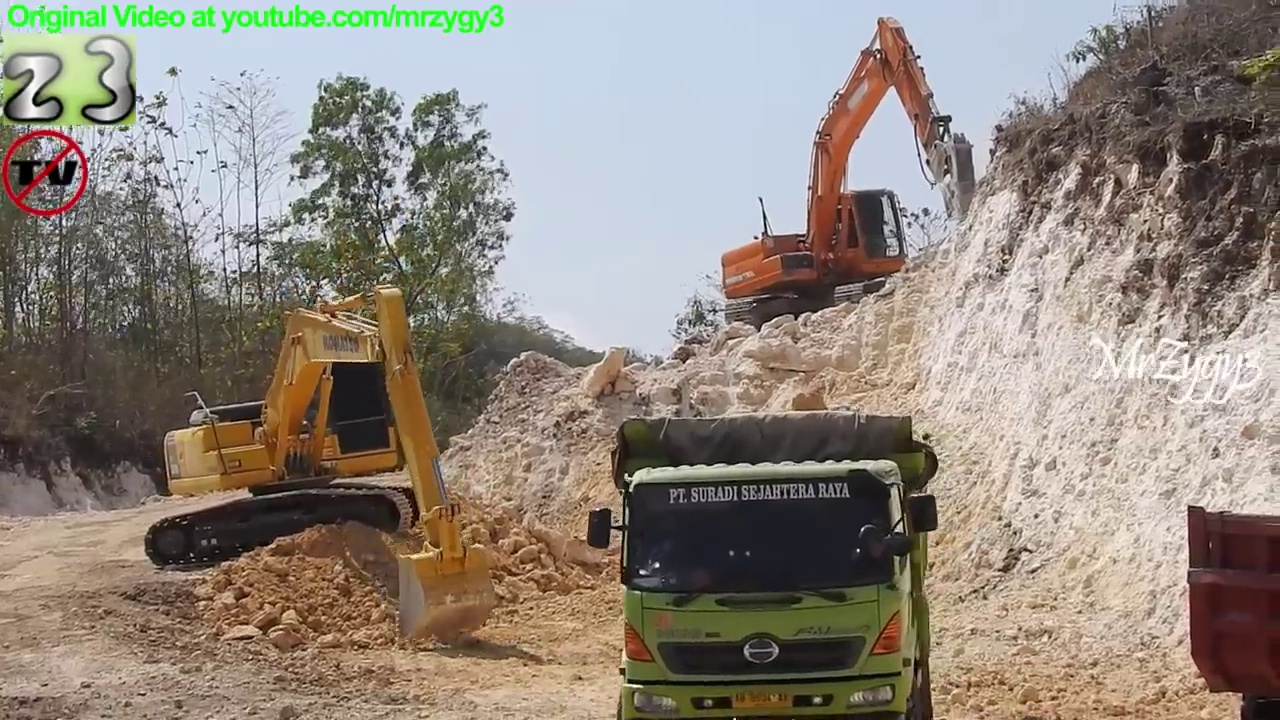excavator: (138, 275, 506, 654), (715, 9, 984, 338)
truck: (579, 403, 949, 720), (1182, 500, 1280, 719)
